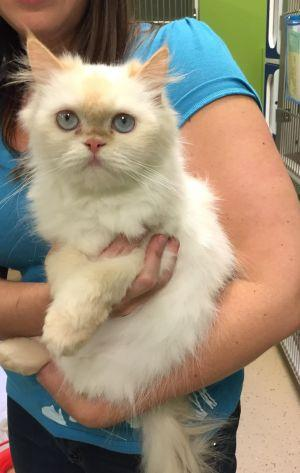persian: (10, 18, 204, 215)
